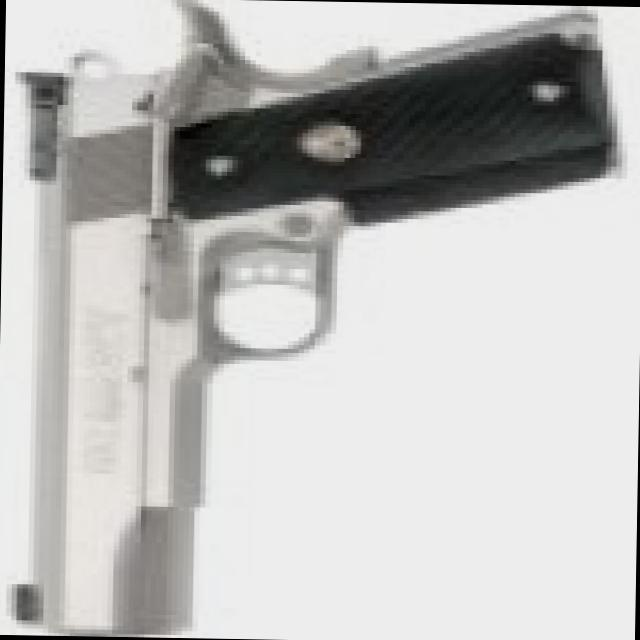handgun: (11, 11, 609, 639)
